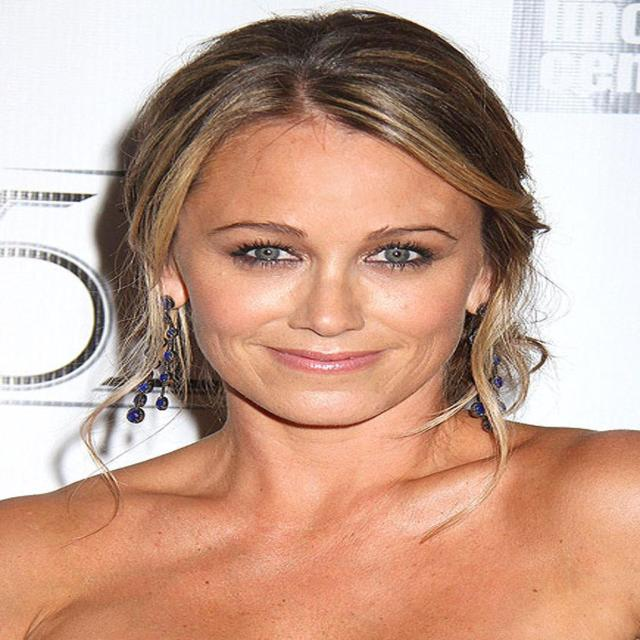Face: (164, 95, 517, 442)
